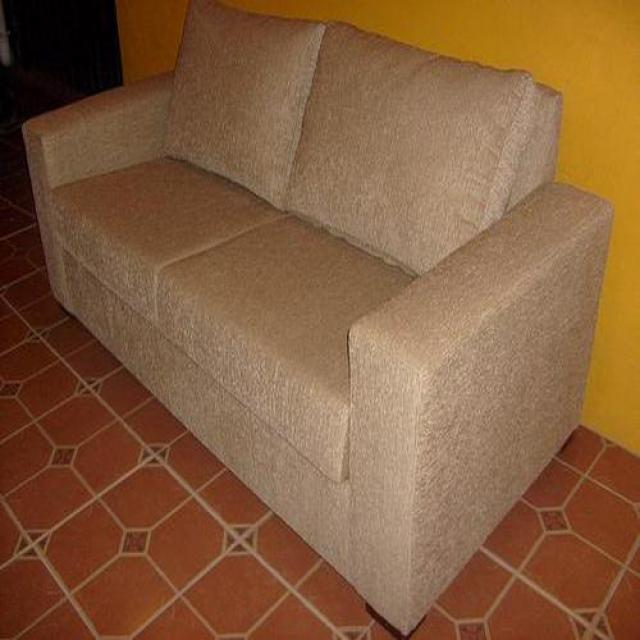sofa: (23, 0, 614, 637)
